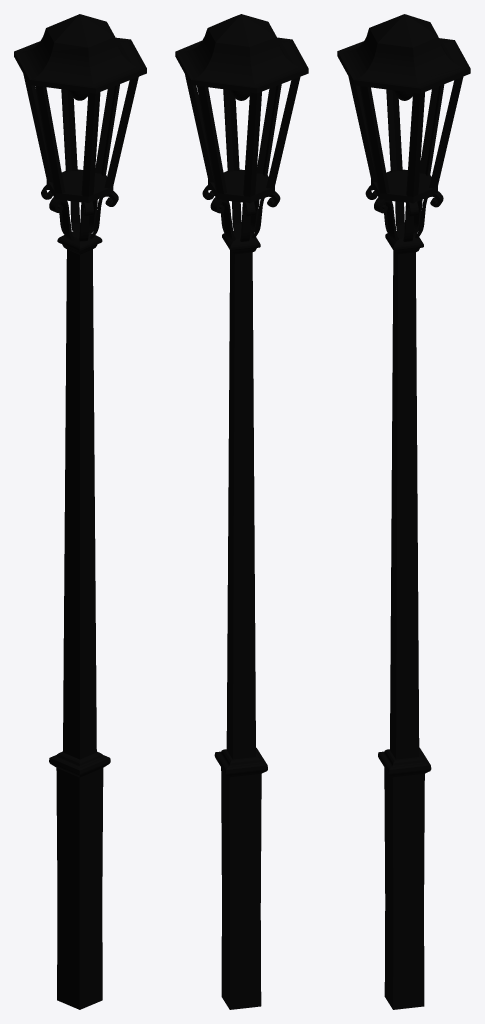
Rendered from Street Lamp.fbx.
3 views of the same model, side by side, from view 1: azimuth 90°, elevation 25°; view 2: azimuth 150°, elevation 25°; view 3: azimuth 330°, elevation 25° (orthographic).
Parts seen in each view (by area): view 1: Object002_id_1; view 2: Object002_id_1; view 3: Object002_id_1.
Part boxes in pixels (box(x1,y1,x2,y2)): Object002_id_1: box(14, 14, 146, 1009); Object002_id_1: box(175, 14, 308, 1009); Object002_id_1: box(337, 14, 470, 1009).
Size of the model in its own units: 0.4781 by 3.85 by 0.4699.
